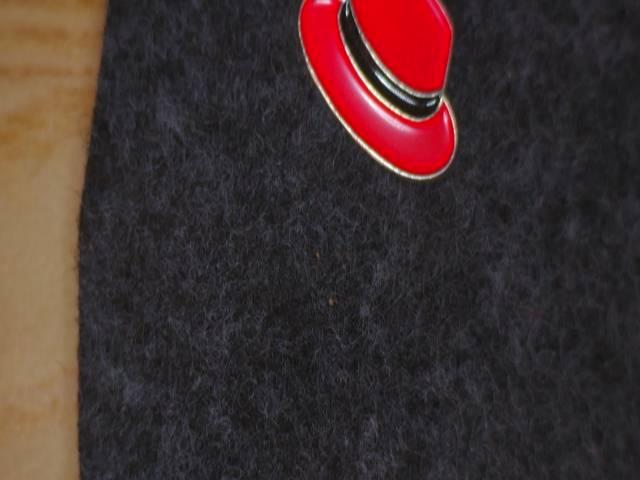Red-Hat: (277, 0, 486, 214)
